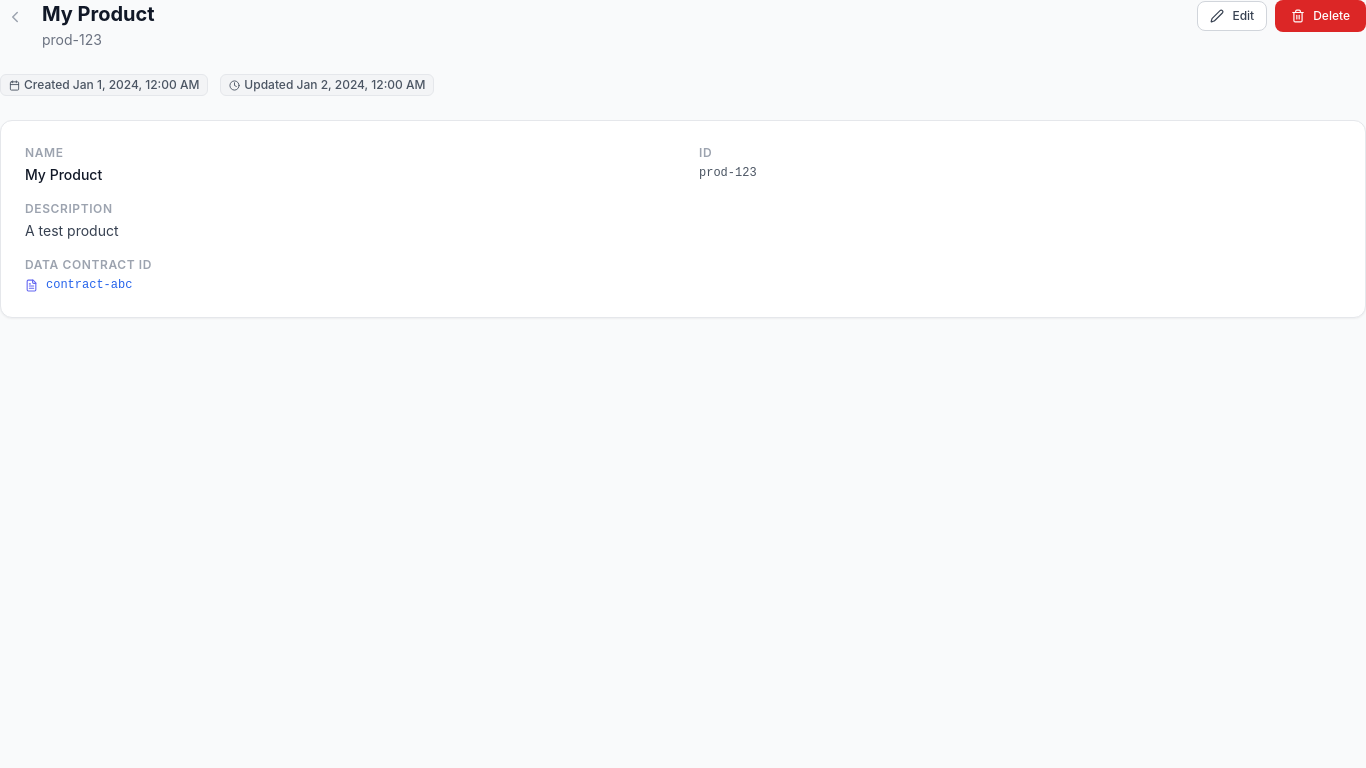
Test case: DataProductDetail — states & flows › opens the edit modal with prefilled values
Click the button "Edit": (1232, 16) [1197, 1, 1267, 31]
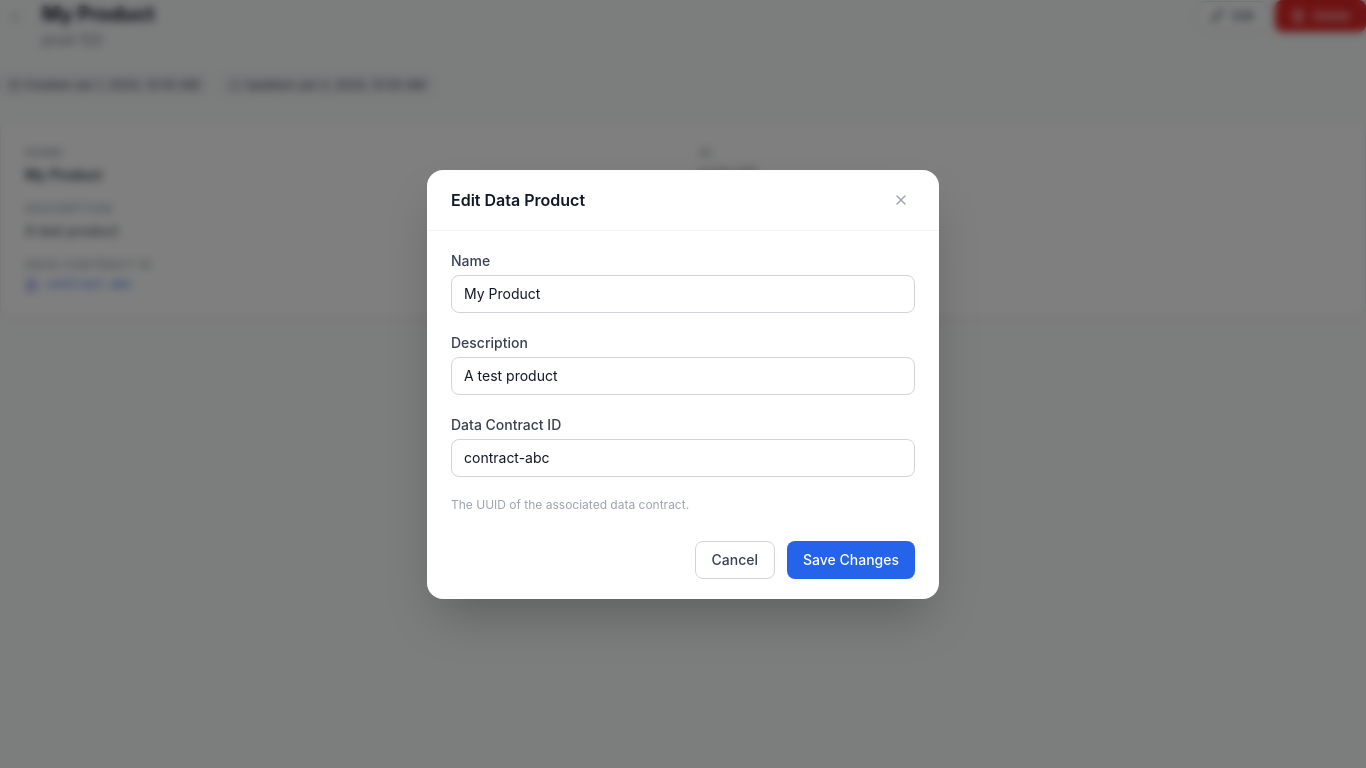
Result: the button "Save Changes" is shown at [787, 540, 915, 578]
